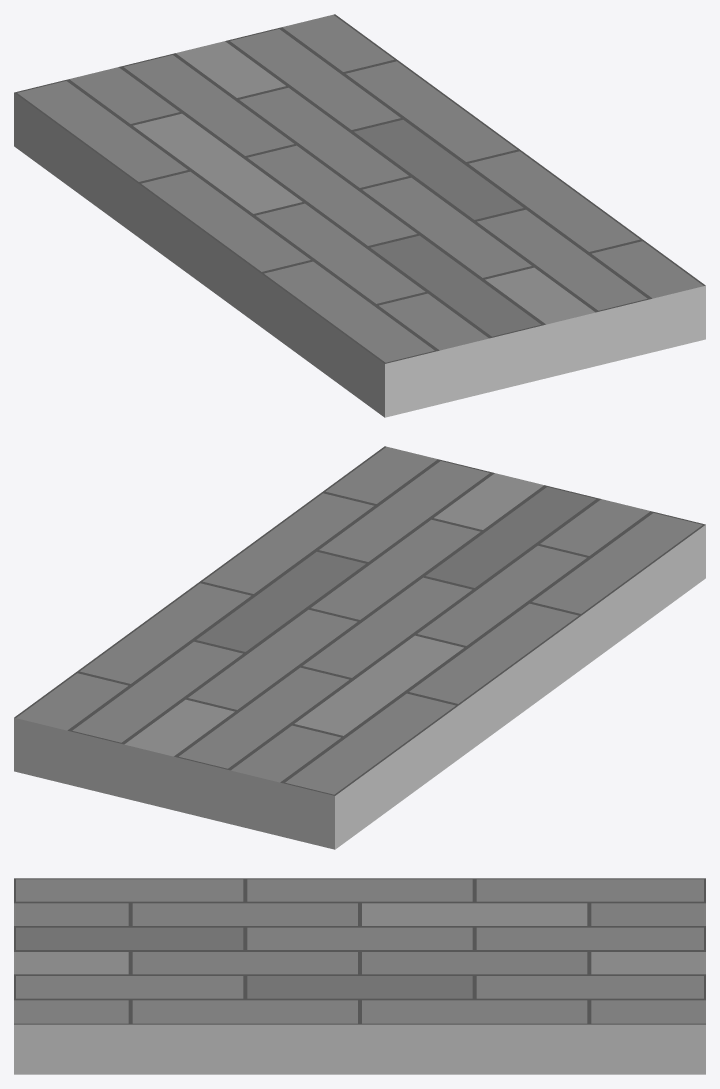
Rendered from Floor8_02.fbx.
3 renders of one model, top to bottom at view 1: azimuth 30°, elevation 25°; view 2: azimuth 150°, elevation 25°; view 3: azimuth 270°, elevation 25°, orthographic. The views are drawn at different scales.
Parts seen in each view (by area): view 1: Floor8_02; view 2: Floor8_02; view 3: Floor8_02.
Part boxes in pixels (<box>): Floor8_02: <box>14,14,705,417</box>; Floor8_02: <box>14,446,705,849</box>; Floor8_02: <box>14,878,705,1074</box>.
Size of the model in its own units: 125 by 20 by 250.
